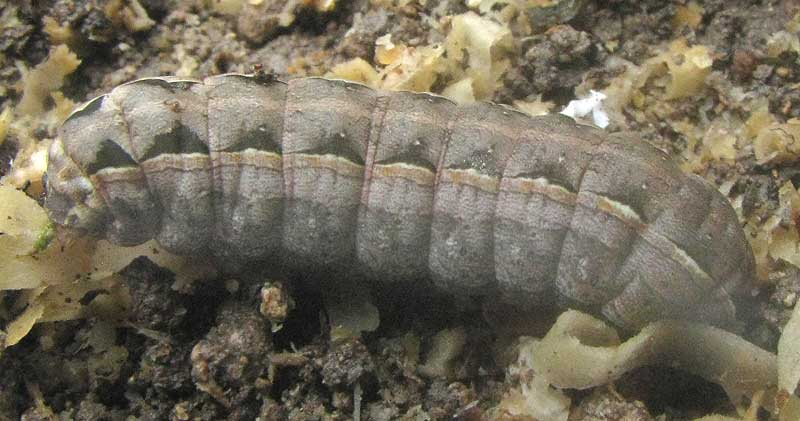Armyworm: (33, 66, 739, 379)
